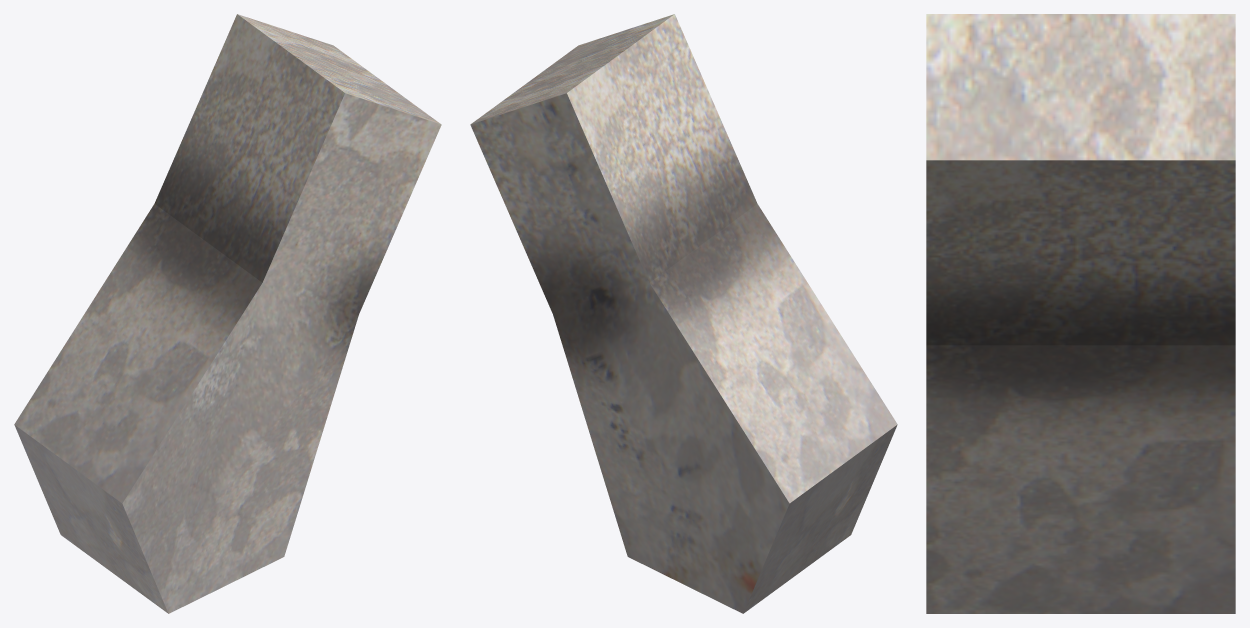
The model's file is Switch.fbx.
3 renders of one model, left to right at view 1: azimuth 30°, elevation 25°; view 2: azimuth 150°, elevation 25°; view 3: azimuth 270°, elevation 25°, orthographic. The views are drawn at different scales.
Parts seen in each view (by area): view 1: pCylinder1; view 2: pCylinder1; view 3: pCylinder1.
Boxes of the visible parts, left/top/right/bottom form: pCylinder1: left=14, top=14, right=441, bottom=613; pCylinder1: left=470, top=14, right=897, bottom=613; pCylinder1: left=926, top=14, right=1235, bottom=613.
Size of the model in its own units: 4.84 by 6.92 by 2.84.
